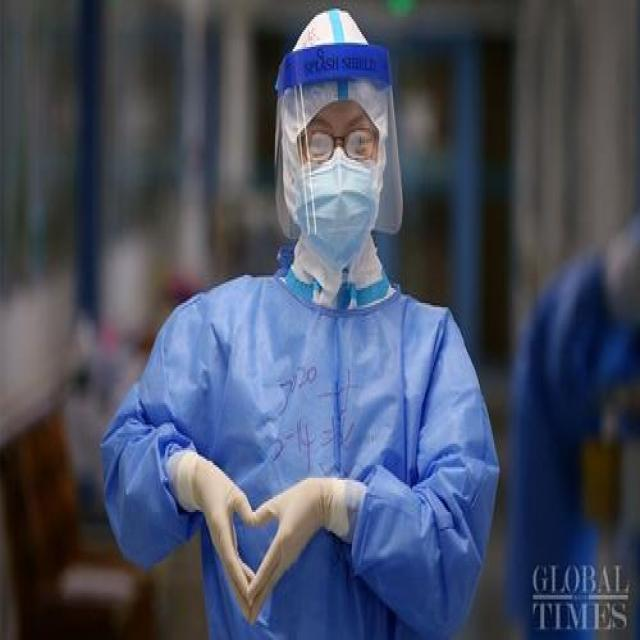Face_Shield: (270, 40, 405, 237)
Gloves: (173, 452, 251, 621), (251, 476, 337, 623)
